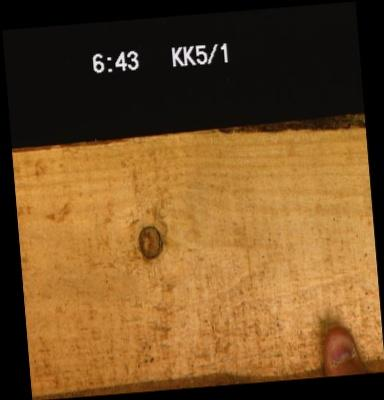dry_knot: (135, 223, 162, 260)
wave: (11, 118, 364, 148), (31, 368, 324, 393)
